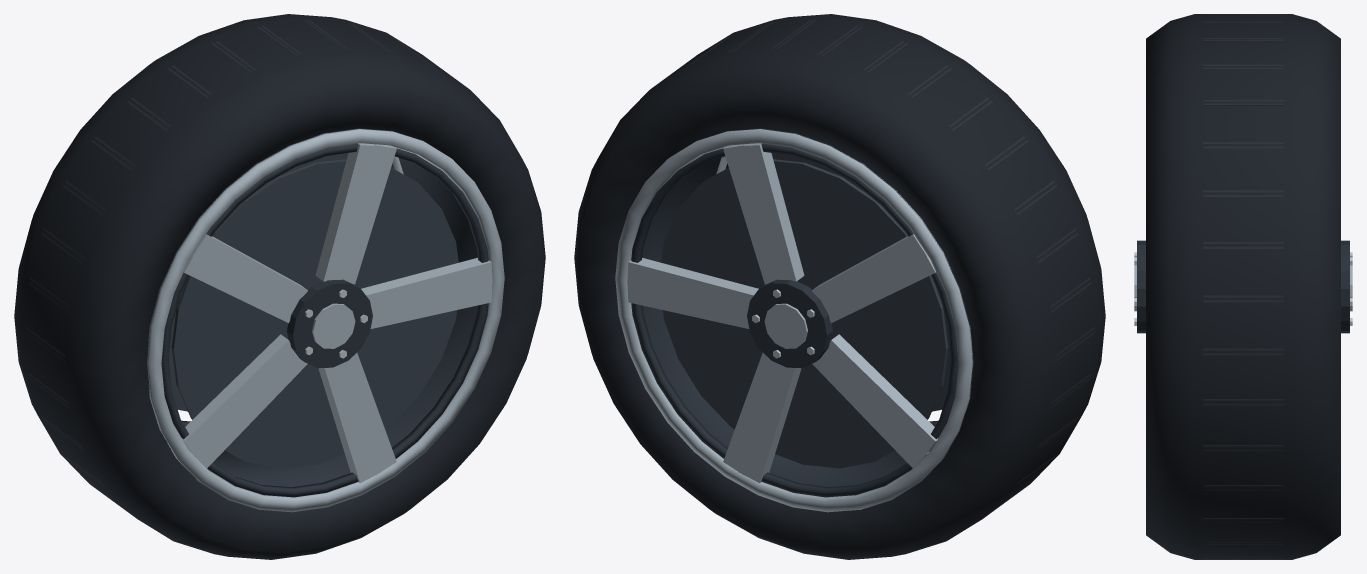
File: vector.glb
The picture shows the model from 3 angles, left to right: view 1: azimuth 30°, elevation 25°; view 2: azimuth 150°, elevation 25°; view 3: azimuth 270°, elevation 25°; orthographic projection.
Visible parts, largest first — view 1: wheel; view 2: wheel; view 3: wheel.
Boxes of the visible parts, bbox=[...] form: wheel: bbox=[14, 14, 545, 559]; wheel: bbox=[574, 14, 1105, 559]; wheel: bbox=[1134, 14, 1352, 559].
Size of the model in its own units: 2 by 2 by 0.8.
